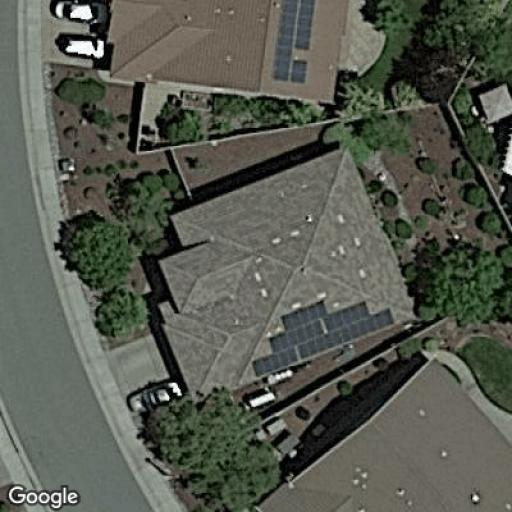solar-panel: (250, 301, 328, 379), (269, 0, 320, 87), (323, 296, 396, 346)
